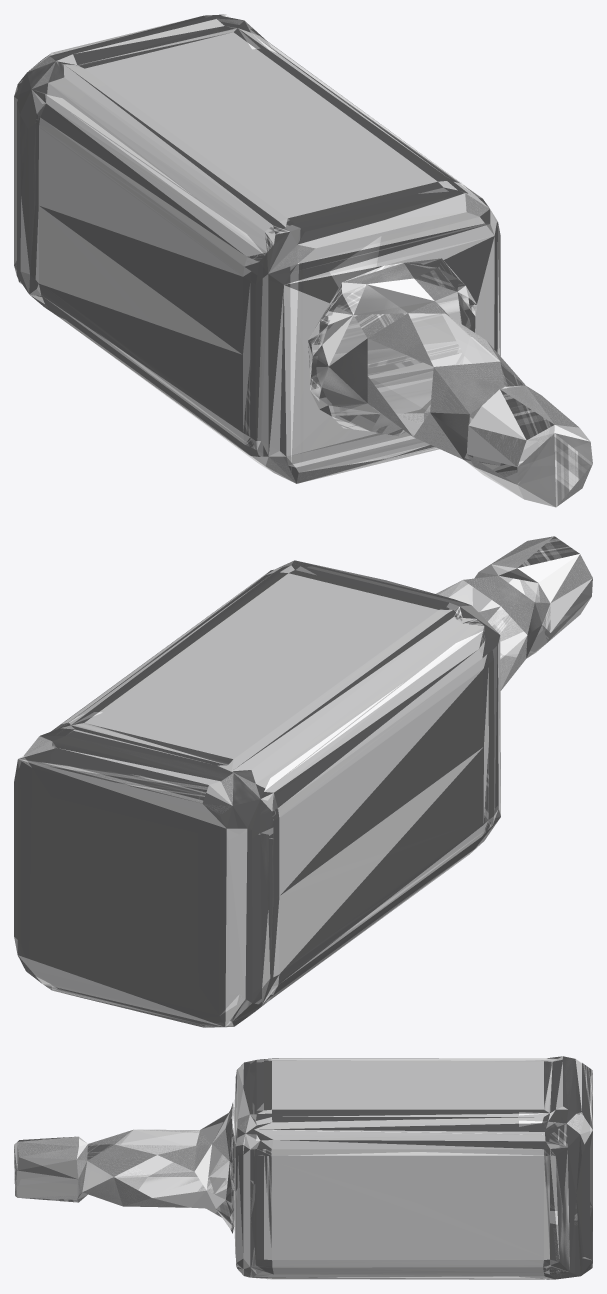
Rendered from model_align.obj.
The picture shows the model from 3 angles, top to bottom: view 1: azimuth 30°, elevation 25°; view 2: azimuth 150°, elevation 25°; view 3: azimuth 270°, elevation 25°; orthographic projection. The views are drawn at different scales.
Bounding box in the file's own units: 0.0861 × 0.0861 × 0.2626.
